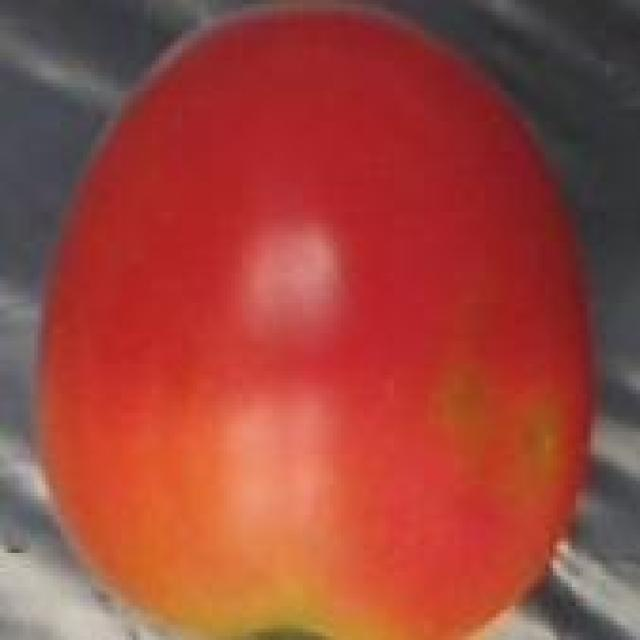overripe tomato: (23, 4, 606, 640)
